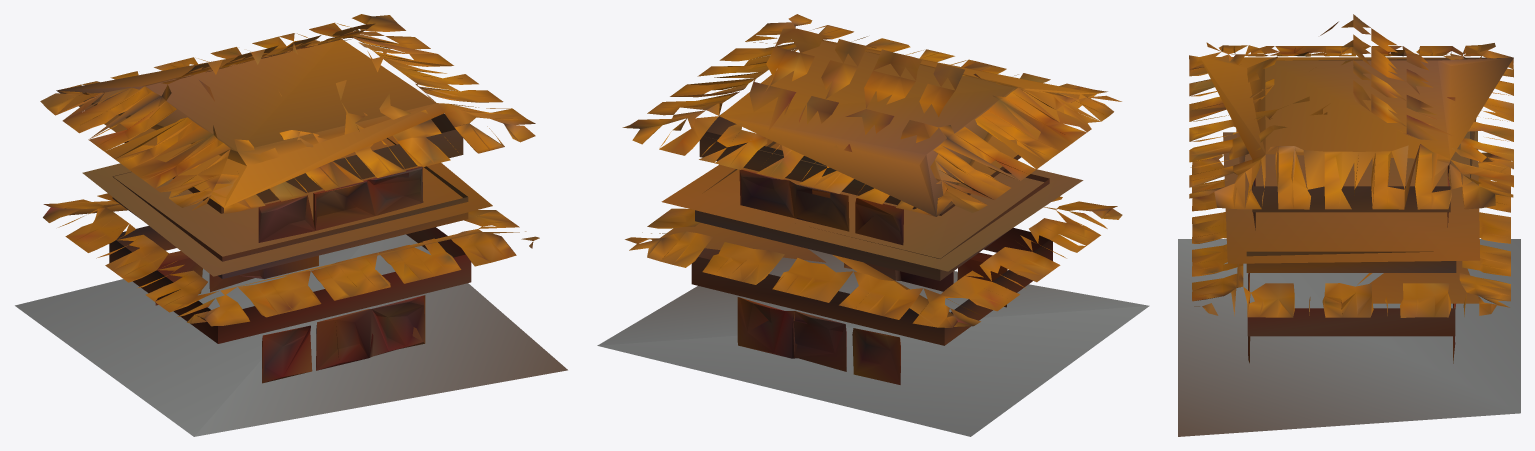
Rendered from bq_drum_tower.vc2.glb.
The picture shows the model from 3 angles, left to right: view 1: azimuth 30°, elevation 25°; view 2: azimuth 150°, elevation 25°; view 3: azimuth 270°, elevation 25°; orthographic projection. The views are drawn at different scales.
Visible parts, largest first — view 1: bq_drum_tower; view 2: bq_drum_tower; view 3: bq_drum_tower.
Part boxes in pixels (bbox=[...]): bq_drum_tower: bbox=[15, 14, 567, 436]; bq_drum_tower: bbox=[597, 14, 1149, 436]; bq_drum_tower: bbox=[1178, 14, 1520, 436].
Size of the model in its own units: 1.67 by 1.3 by 1.38.
